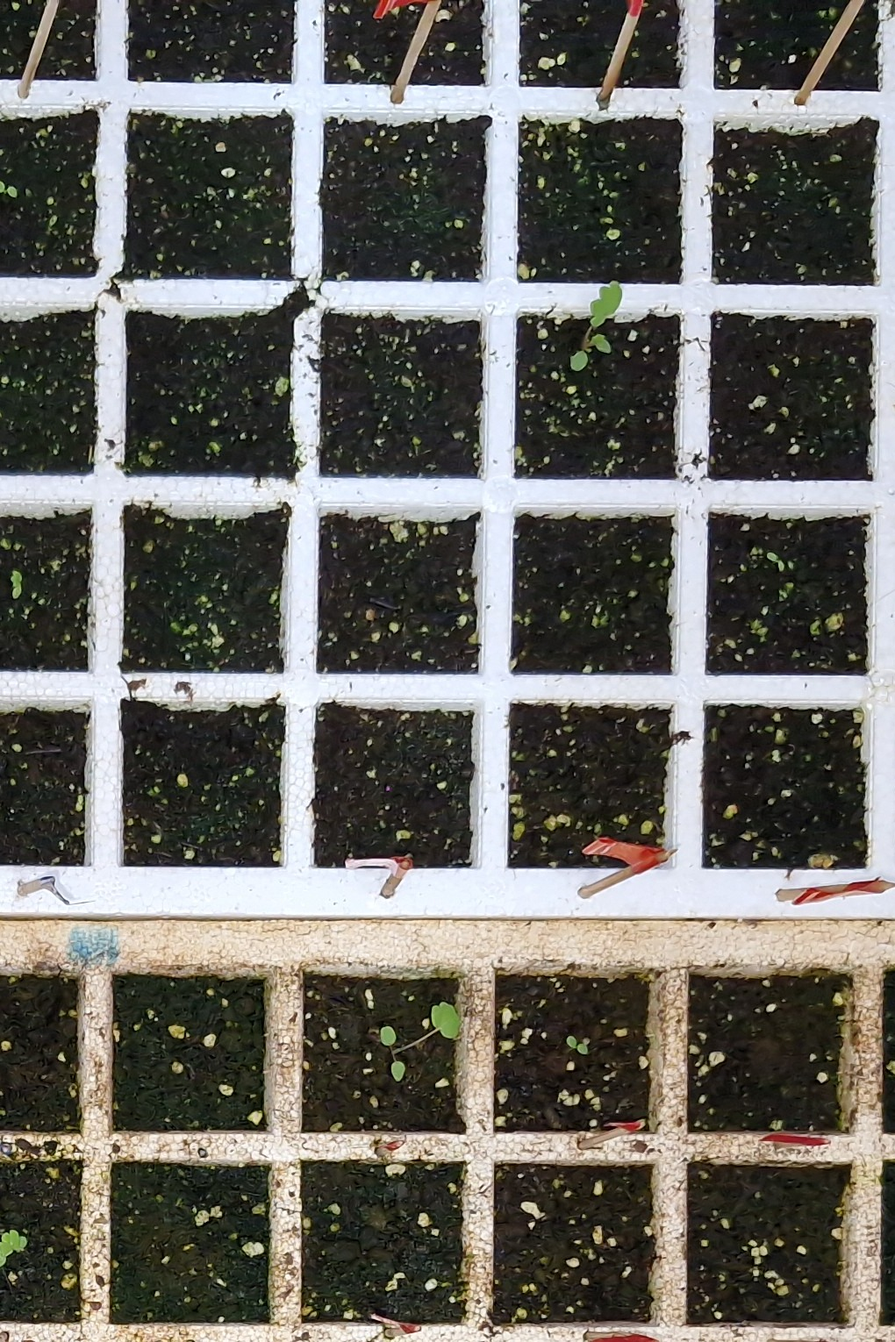Folha: (432, 1002, 460, 1038), (0, 1229, 19, 1256), (380, 1026, 396, 1046), (392, 1062, 404, 1081)
Germinacao: (381, 1003, 461, 1081), (0, 1230, 27, 1269), (567, 1036, 587, 1054)
